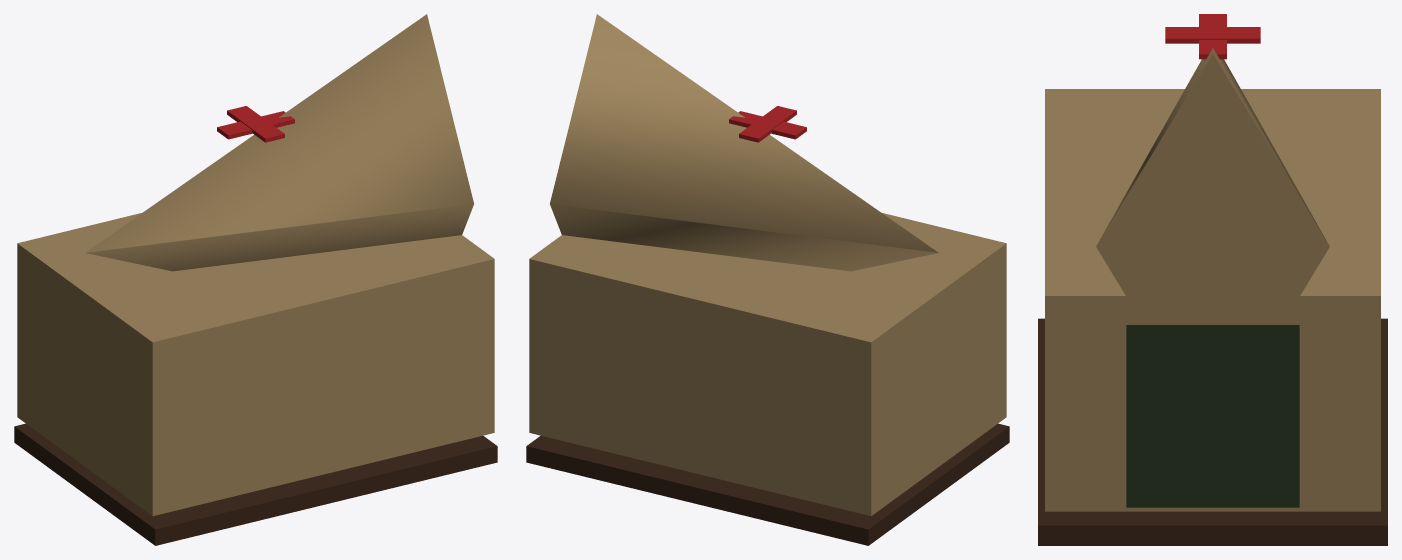
File: aid-station.glb
3 renders of one model, left to right at view 1: azimuth 30°, elevation 25°; view 2: azimuth 150°, elevation 25°; view 3: azimuth 270°, elevation 25°, orthographic. The views are drawn at different scales.
Visible parts, largest first — view 1: canvasBody, ridgeRoof, floor, redCrossV, redCrossH; view 2: canvasBody, ridgeRoof, floor, redCrossV, redCrossH; view 3: canvasBody, ridgeRoof, frontFlap, floor, redCrossV, redCrossH.
Boxes of the visible parts, <box> form: canvasBody: <box>17,213,494,516</box>; ridgeRoof: <box>85,14,473,271</box>; floor: <box>14,423,497,545</box>; redCrossV: <box>227,106,284,142</box>; redCrossH: <box>217,111,294,139</box>; canvasBody: <box>529,213,1006,516</box>; ridgeRoof: <box>550,14,938,271</box>; floor: <box>526,423,1009,545</box>; redCrossV: <box>739,106,796,142</box>; redCrossH: <box>729,111,806,139</box>; canvasBody: <box>1045,89,1380,511</box>; ridgeRoof: <box>1096,48,1329,324</box>; frontFlap: <box>1126,325,1299,507</box>; floor: <box>1038,318,1387,545</box>; redCrossV: <box>1165,27,1260,43</box>; redCrossH: <box>1199,14,1226,59</box>.
Size of the model in its own units: 1.77 by 1.94 by 1.25.
